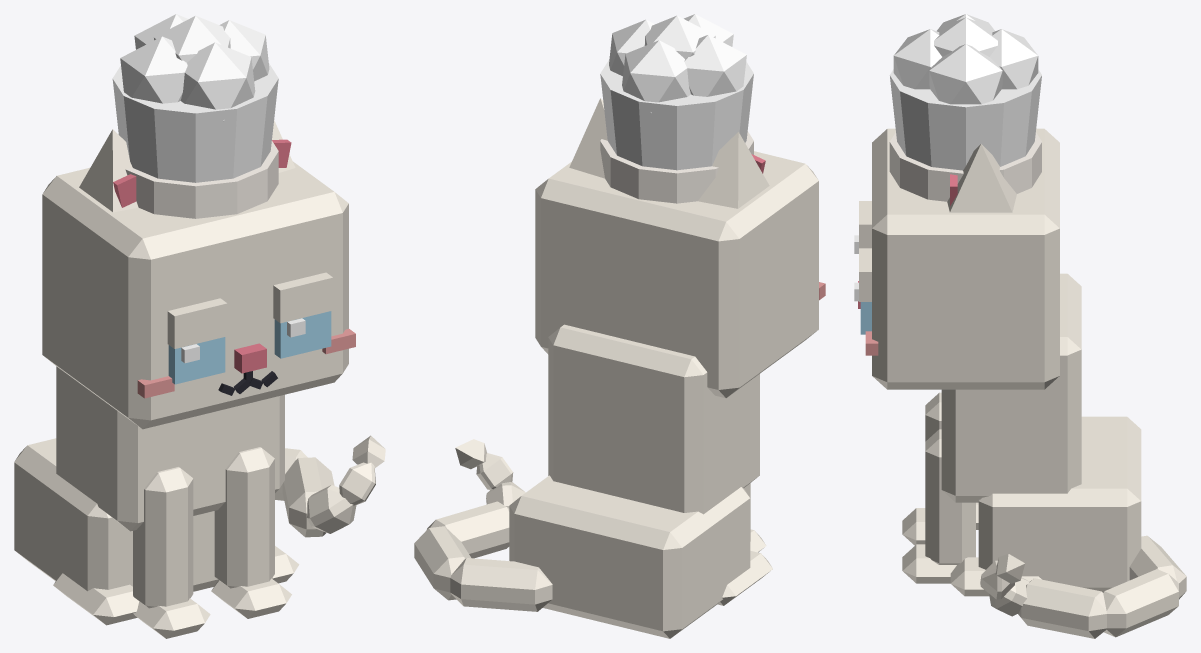
File: CatCafe_Cat_CafeGhost_Sit.glb
3 views of the same model, side by side, from view 1: azimuth 30°, elevation 25°; view 2: azimuth 150°, elevation 25°; view 3: azimuth 270°, elevation 25° (orthographic). The views are drawn at different scales.
Parts seen in each view (by area): view 1: CatCafe_Cat_CafeGhost_Sit_Head, CatCafe_Cat_CafeGhost_Sit_Body, CatCafe_Cat_CafeGhost_Sit_Prop, CatCafe_Cat_CafeGhost_Sit_LegF1, CatCafe_Cat_CafeGhost_Sit_LegF2, CatCafe_Cat_CafeGhost_Sit_Tail, CatCafe_Cat_CafeGhost_Sit_Eye1, CatCafe_Cat_CafeGhost_Sit_Eye2, CatCafe_Cat_CafeGhost_Sit_EarR, CatCafe_Cat_CafeGhost_Sit_EarL; view 2: CatCafe_Cat_CafeGhost_Sit_Body, CatCafe_Cat_CafeGhost_Sit_Head, CatCafe_Cat_CafeGhost_Sit_Prop, CatCafe_Cat_CafeGhost_Sit_Tail, CatCafe_Cat_CafeGhost_Sit_EarR, CatCafe_Cat_CafeGhost_Sit_EarL; view 3: CatCafe_Cat_CafeGhost_Sit_Head, CatCafe_Cat_CafeGhost_Sit_Body, CatCafe_Cat_CafeGhost_Sit_Prop, CatCafe_Cat_CafeGhost_Sit_Tail, CatCafe_Cat_CafeGhost_Sit_LegF1, CatCafe_Cat_CafeGhost_Sit_EarL, CatCafe_Cat_CafeGhost_Sit_LegF2, CatCafe_Cat_CafeGhost_Sit_Eye1, CatCafe_Cat_CafeGhost_Sit_Eye2.
Boxes of the visible parts, box(x1,y1,x2,y2) form: CatCafe_Cat_CafeGhost_Sit_Head: box(42, 161, 355, 429); CatCafe_Cat_CafeGhost_Sit_Body: box(14, 366, 299, 625); CatCafe_Cat_CafeGhost_Sit_Prop: box(112, 14, 278, 218); CatCafe_Cat_CafeGhost_Sit_LegF1: box(211, 447, 291, 618); CatCafe_Cat_CafeGhost_Sit_LegF2: box(133, 467, 210, 638); CatCafe_Cat_CafeGhost_Sit_Tail: box(275, 435, 385, 537); CatCafe_Cat_CafeGhost_Sit_Eye1: box(273, 272, 333, 358); CatCafe_Cat_CafeGhost_Sit_Eye2: box(167, 298, 227, 384); CatCafe_Cat_CafeGhost_Sit_EarR: box(79, 129, 138, 212); CatCafe_Cat_CafeGhost_Sit_EarL: box(272, 120, 295, 172); CatCafe_Cat_CafeGhost_Sit_Body: box(509, 324, 772, 638); CatCafe_Cat_CafeGhost_Sit_Head: box(535, 151, 825, 398); CatCafe_Cat_CafeGhost_Sit_Prop: box(600, 14, 753, 203); CatCafe_Cat_CafeGhost_Sit_Tail: box(414, 439, 552, 611); CatCafe_Cat_CafeGhost_Sit_EarR: box(698, 132, 769, 208); CatCafe_Cat_CafeGhost_Sit_EarL: box(569, 98, 607, 178); CatCafe_Cat_CafeGhost_Sit_Head: box(858, 128, 1059, 389); CatCafe_Cat_CafeGhost_Sit_Body: box(941, 273, 1141, 596); CatCafe_Cat_CafeGhost_Sit_Prop: box(889, 14, 1041, 201); CatCafe_Cat_CafeGhost_Sit_Tail: box(980, 535, 1186, 638); CatCafe_Cat_CafeGhost_Sit_LegF1: box(902, 429, 975, 583); CatCafe_Cat_CafeGhost_Sit_EarL: box(947, 144, 1016, 212); CatCafe_Cat_CafeGhost_Sit_LegF2: box(902, 392, 941, 545); CatCafe_Cat_CafeGhost_Sit_Eye1: box(854, 248, 871, 334); CatCafe_Cat_CafeGhost_Sit_Eye2: box(854, 201, 871, 253).
Size of the model in its own units: 1.28 by 2.23 by 1.24.
Materials: 1 (1 with a texture image).
